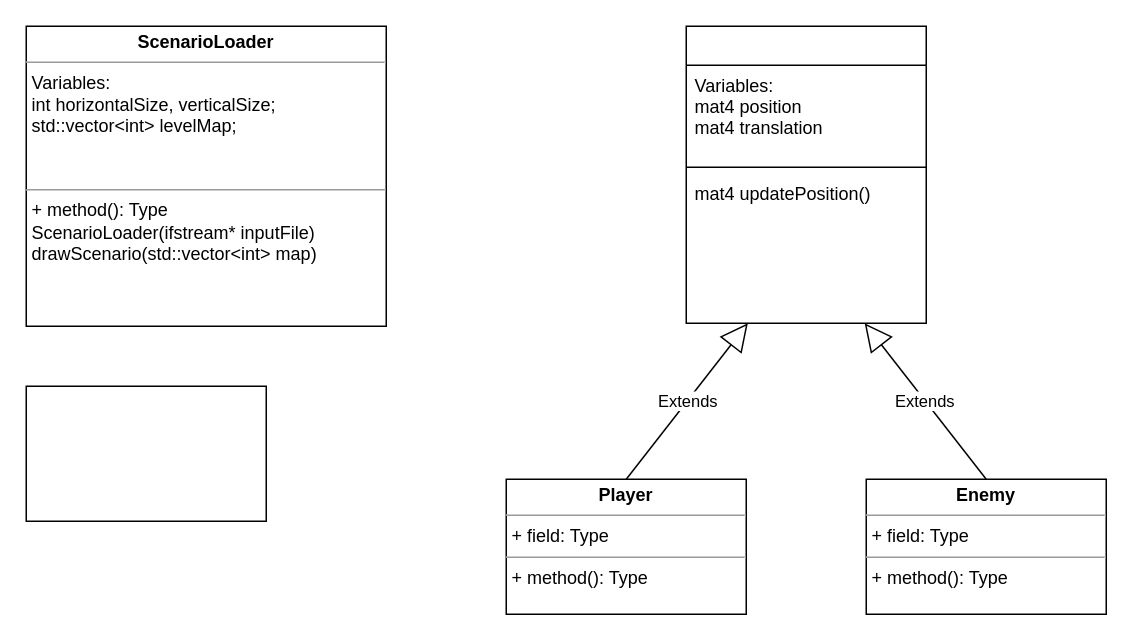
Some shapes in this 1133 by 641 pixel diagram are drawn without their labels. Here are the shapes that lost their labels. From the top down, the box of each, then its label:
(685, 25, 926, 323): MovableObject
(25, 385, 266, 521): ShaderLoader + field: Type + method(): Type
